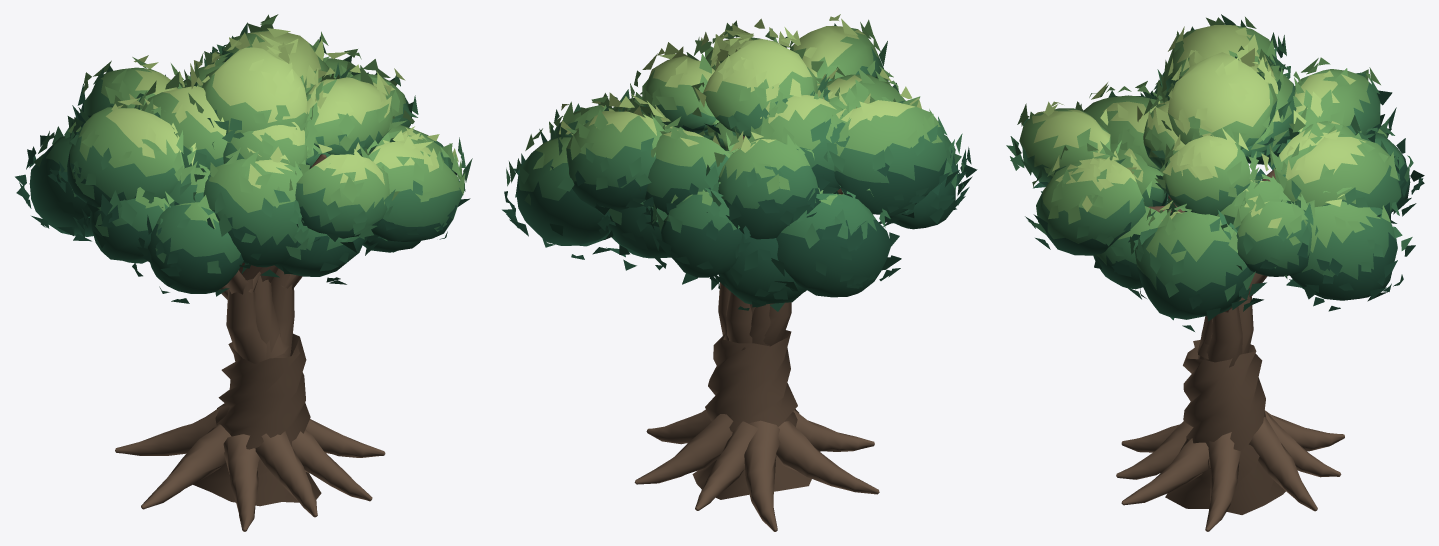
File: Elder.glb
3 views of the same model, side by side, from view 1: azimuth 30°, elevation 25°; view 2: azimuth 150°, elevation 25°; view 3: azimuth 270°, elevation 25° (orthographic). The views are drawn at different scales.
Parts seen in each view (by area): view 1: Elder.leafLight, Elder.bark, Elder.leafMid, Elder.leafGold, Elder.leafDark; view 2: Elder.leafDark, Elder.leafLight, Elder.bark, Elder.leafMid, Elder.leafGold; view 3: Elder.leafLight, Elder.bark, Elder.leafMid, Elder.leafGold, Elder.leafDark.
Part boxes in pixels (bbox=[...]): Elder.leafLight: bbox=[68, 14, 465, 228]; Elder.bark: bbox=[115, 154, 385, 531]; Elder.leafMid: bbox=[33, 22, 472, 273]; Elder.leafGold: bbox=[106, 28, 458, 188]; Elder.leafDark: bbox=[15, 52, 470, 303]; Elder.leafDark: bbox=[502, 123, 977, 311]; Elder.leafLight: bbox=[525, 19, 942, 205]; Elder.bark: bbox=[634, 136, 879, 531]; Elder.leafMid: bbox=[506, 23, 965, 248]; Elder.leafGold: bbox=[559, 14, 921, 152]; Elder.leafLight: bbox=[1017, 17, 1398, 261]; Elder.bark: bbox=[1116, 168, 1344, 531]; Elder.leafMid: bbox=[1006, 14, 1413, 301]; Elder.leafGold: bbox=[1032, 25, 1365, 228]; Elder.leafDark: bbox=[1025, 43, 1424, 331].
Size of the model in its own units: 64.22 by 71.29 by 62.05.
